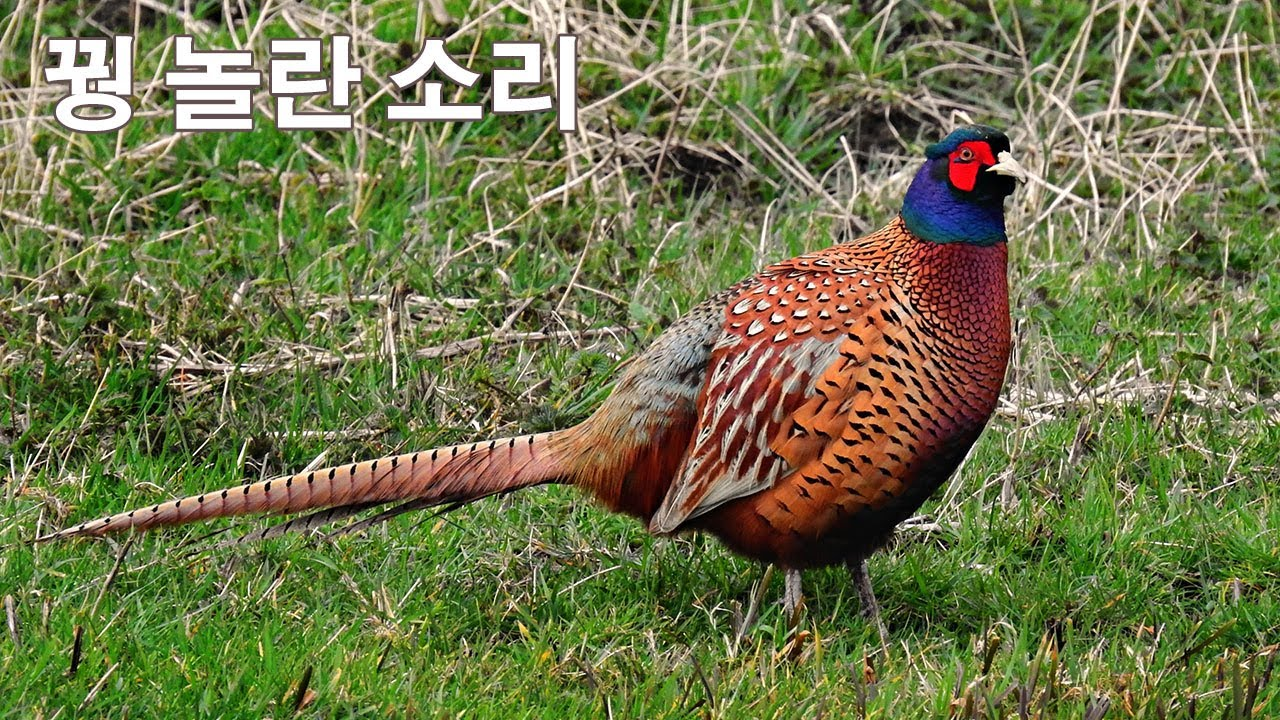pheasant: (81, 119, 1020, 628)
